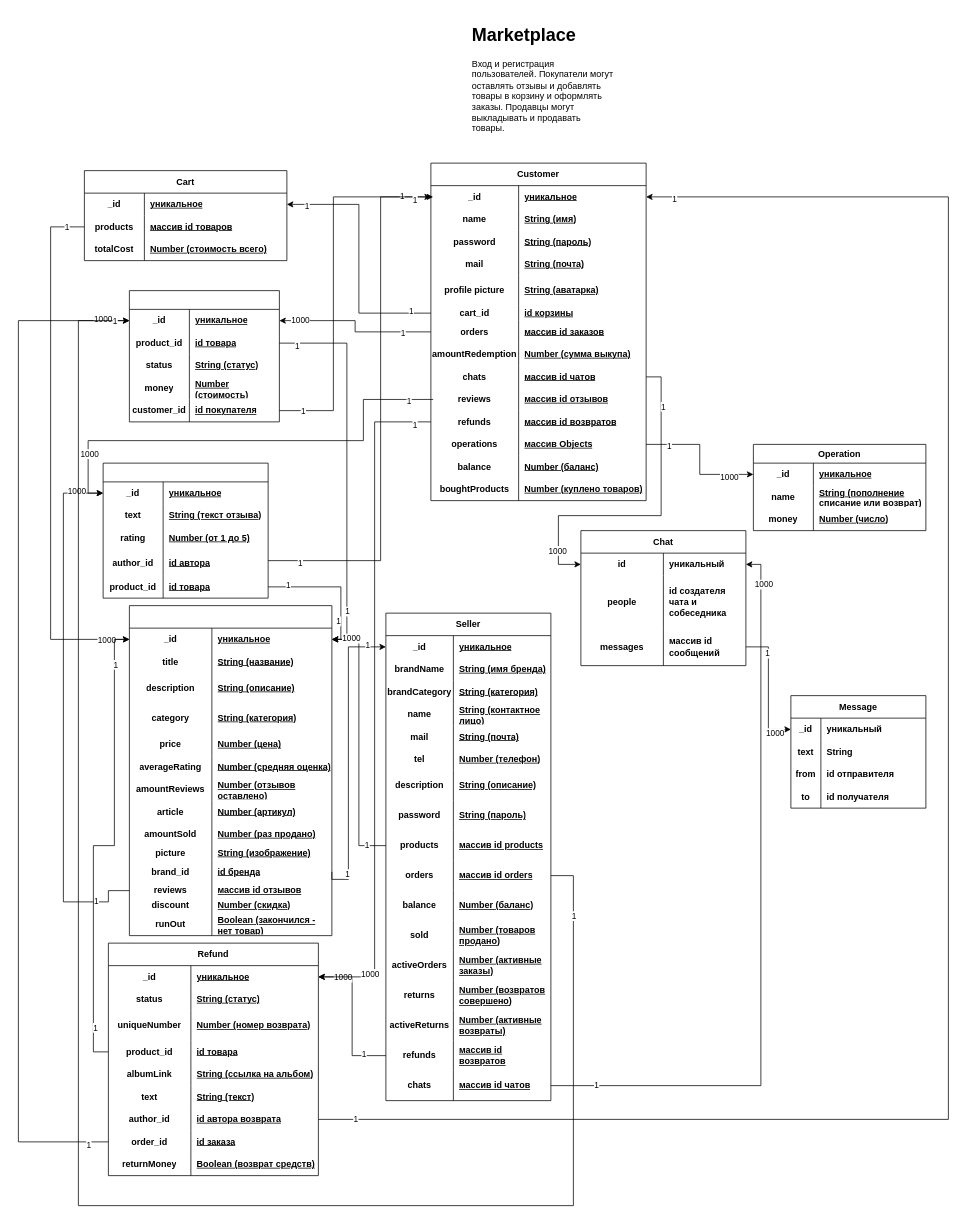
The diagram is 968 pixels wide and 1225 high, and some of its shapes have lost their labels. Each missing label, with the box of its shape:
Order: (129, 290, 279, 422)
Product: (129, 605, 332, 936)
Review: (102, 462, 268, 598)
